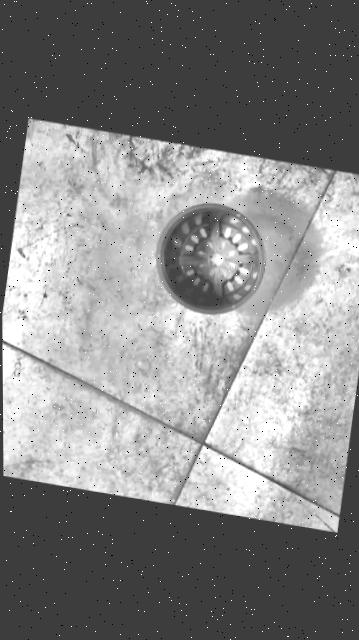pot: (148, 192, 270, 322)
